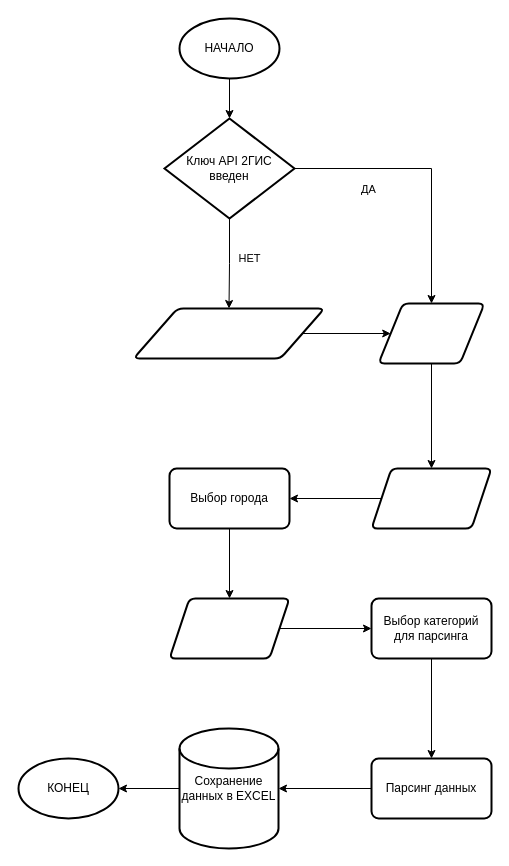
Image size: 509x866. Some labels were removed from this diagram. Each missing label, with the box of its shape:
Ввод API 2ГИС ключа: (132, 307, 325, 359)
Ввод города: (377, 302, 485, 364)
Вывод списка городов: (370, 467, 492, 529)
Вывод списка категорий: (168, 597, 290, 659)
